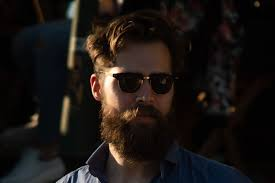b.y: (121, 105, 164, 158)
